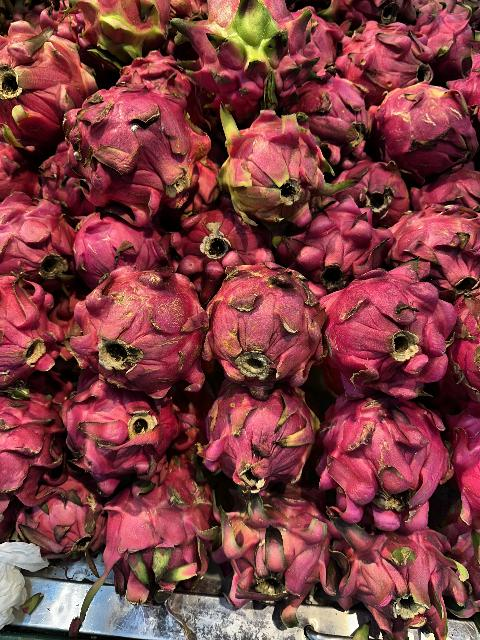buah-naga-belum-matang: (75, 258, 205, 388), (211, 100, 337, 222)
buah-naga-matang: (312, 380, 454, 514), (57, 78, 197, 212), (314, 257, 448, 387), (81, 465, 217, 593), (322, 513, 464, 627), (193, 261, 320, 383), (167, 1, 309, 108), (54, 375, 188, 487), (211, 486, 327, 610), (196, 384, 324, 490), (0, 18, 94, 152), (364, 83, 480, 169), (279, 195, 389, 279), (0, 264, 70, 386), (386, 201, 480, 289), (1, 378, 66, 498), (173, 202, 271, 274), (0, 188, 70, 280), (337, 32, 429, 96), (72, 0, 166, 60), (399, 9, 477, 73), (342, 154, 412, 218)
